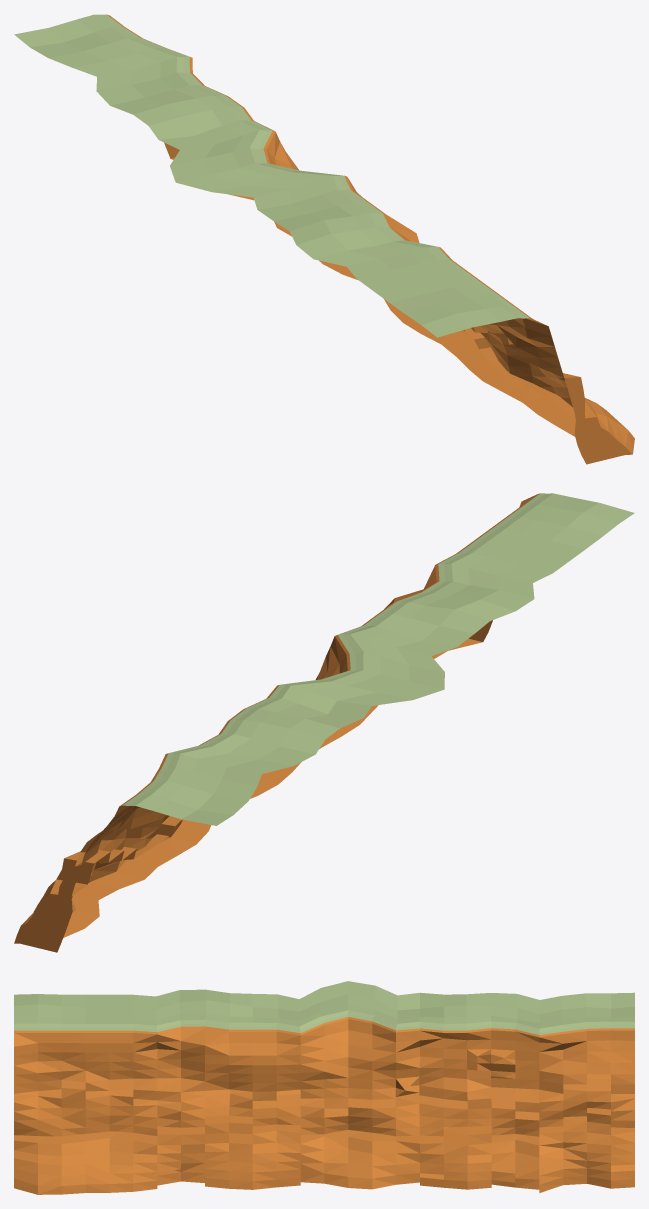
The model's file is CliffBig_3.fbx.
The picture shows the model from 3 angles, top to bottom: view 1: azimuth 30°, elevation 25°; view 2: azimuth 150°, elevation 25°; view 3: azimuth 270°, elevation 25°; orthographic projection. The views are drawn at different scales.
Visible parts, largest first — view 1: pPlane3; view 2: pPlane3; view 3: pPlane3.
Boxes of the visible parts, left/top/right/bottom form: pPlane3: left=14, top=14, right=634, bottom=464; pPlane3: left=14, top=493, right=634, bottom=952; pPlane3: left=14, top=981, right=634, bottom=1194.
Size of the model in its own units: 71.05 by 45.57 by 204.
